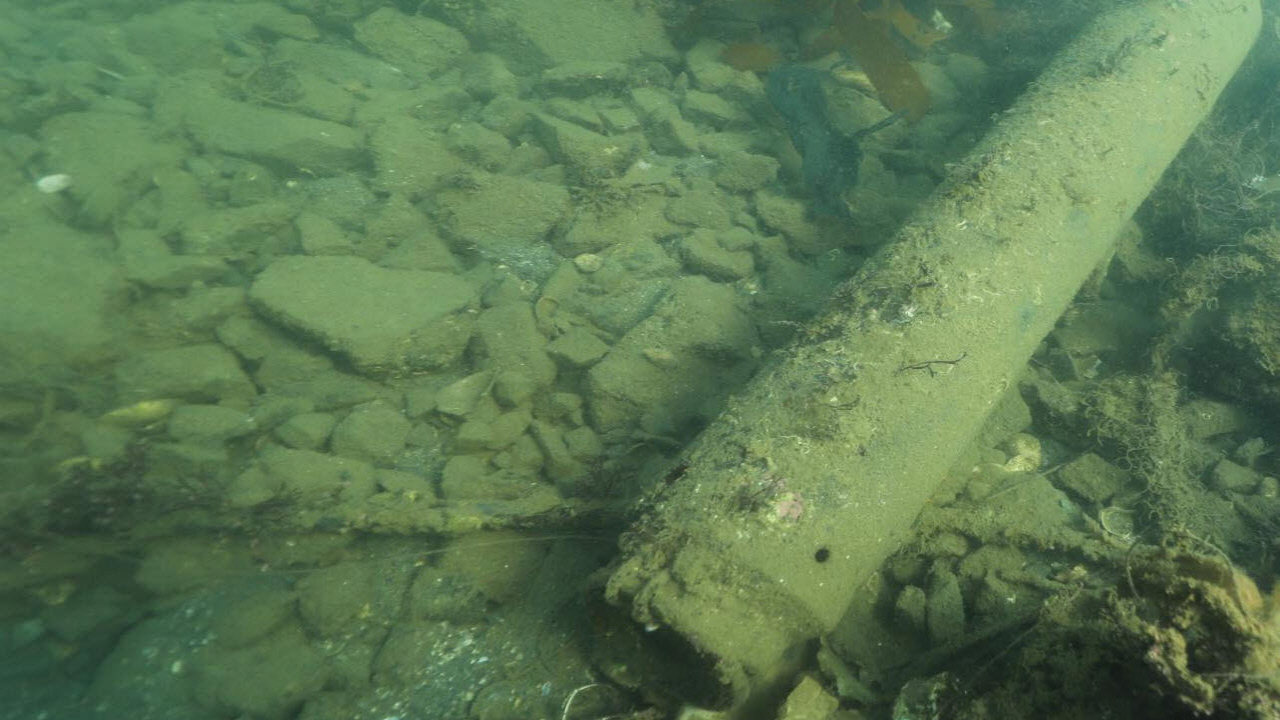eel fish trap: (570, 0, 1270, 711)
